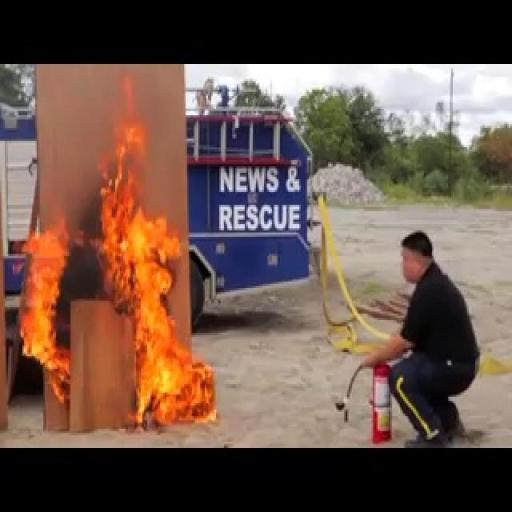smoke: (16, 98, 227, 427)
